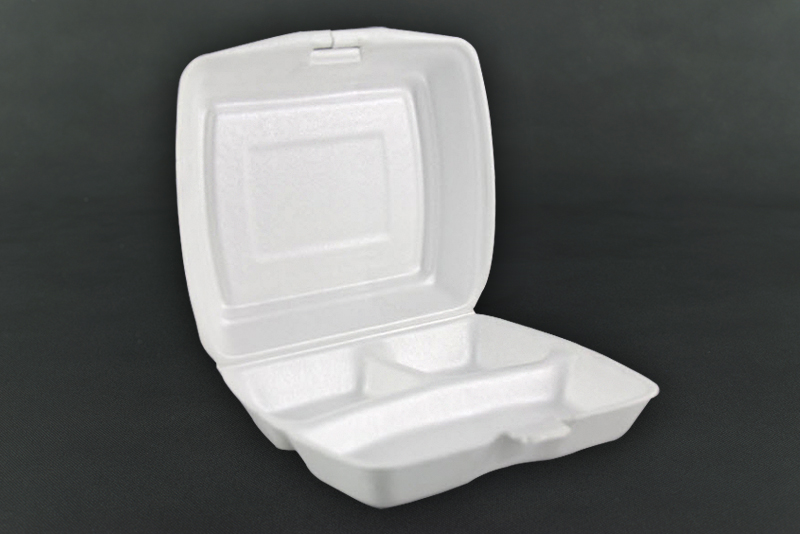Foam Box: (166, 23, 666, 514)
